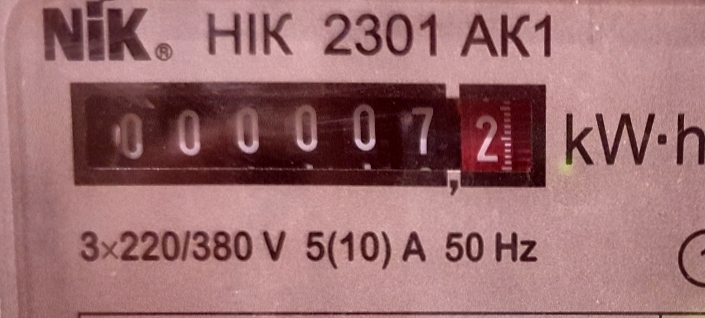0: (170, 104, 205, 156), (347, 100, 379, 153), (289, 99, 320, 153), (114, 109, 146, 160), (231, 102, 262, 154)
2: (470, 112, 501, 163)
7: (405, 102, 435, 157)
screen: (51, 62, 565, 206)
